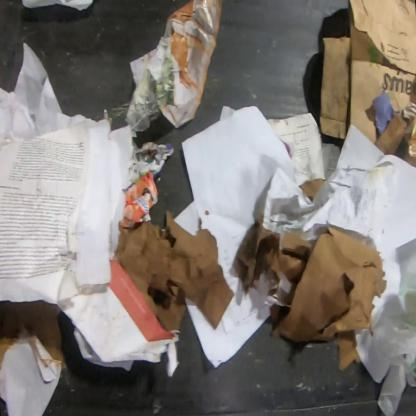cardboard: (233, 214, 387, 373), (114, 207, 235, 332), (127, 0, 226, 130), (0, 299, 70, 415), (374, 113, 415, 170), (119, 171, 159, 228), (298, 178, 326, 198)
soft_plastic: (371, 312, 415, 388)
